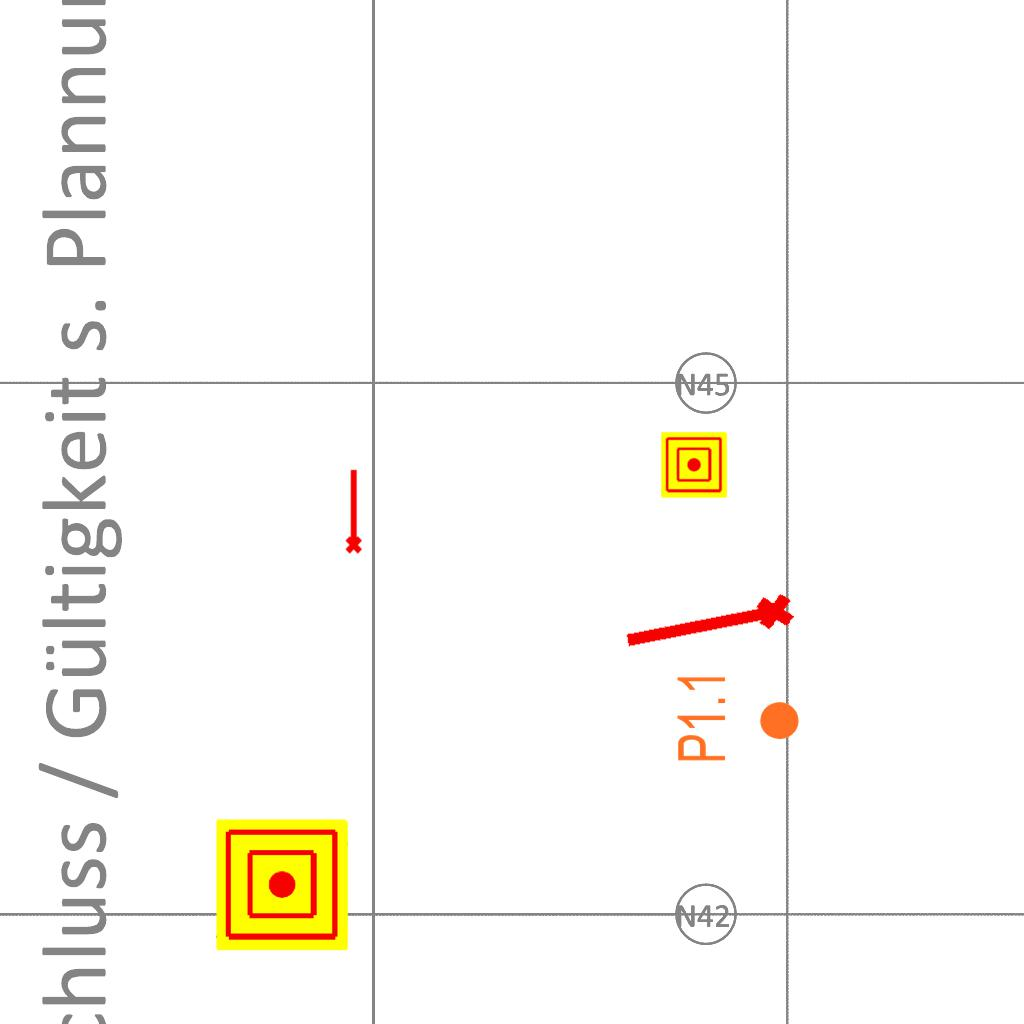ASR_Ansaugoeffnung: (618, 587, 800, 667), (341, 467, 364, 555)
Downlight_LED_Einbauleuchten_Flur_2: (674, 671, 802, 764)
NAM-Nichtautomatischer_Melder: (216, 819, 348, 951), (661, 432, 727, 498)
